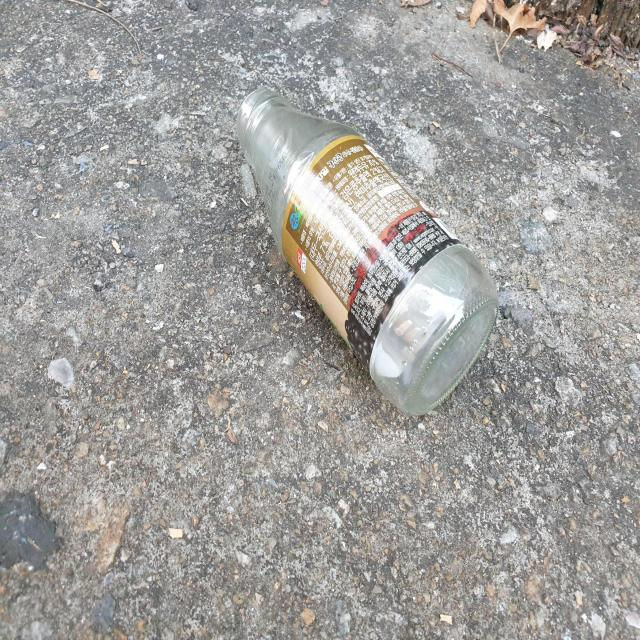glass: (237, 88, 499, 415)
